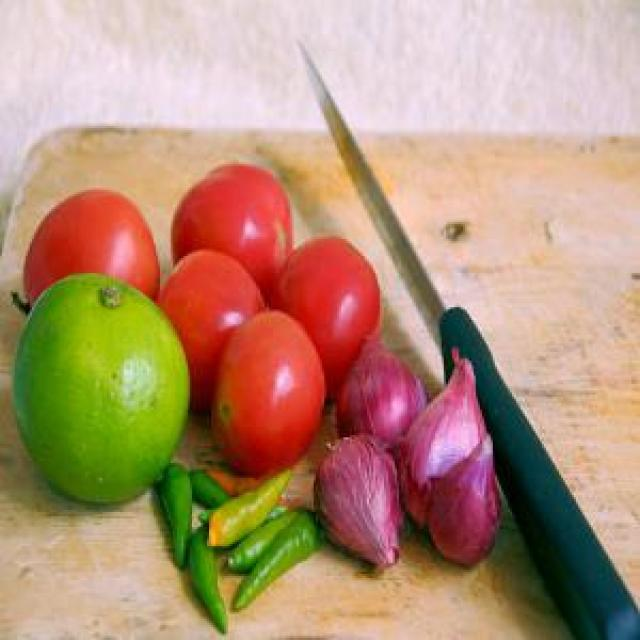knife: (294, 36, 638, 638)
